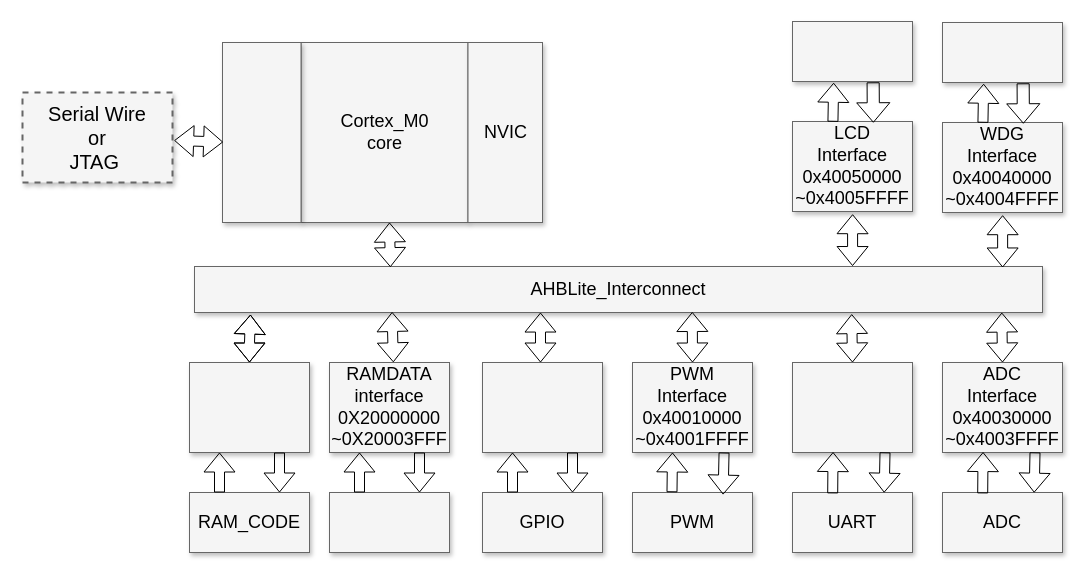
Some shapes in this 1086 by 577 pixel diagram are drawn without their labels. Here are the shapes that lost their labels. From the top down, the centre of each, then its label:
At point (853, 52): "LCD".
At point (1003, 54): "WDG".
At point (262, 134): "Debug".
At point (250, 409): "RAMCODE interface 0X00000000 ~0X00003FFF".
At point (543, 409): "GPIO A/B Interface 0X40000000 ~0X4000001C".
At point (853, 409): "UART Interface 0x40020000 ~0x4002FFFF".
At point (390, 524): "RAM_DATA".
